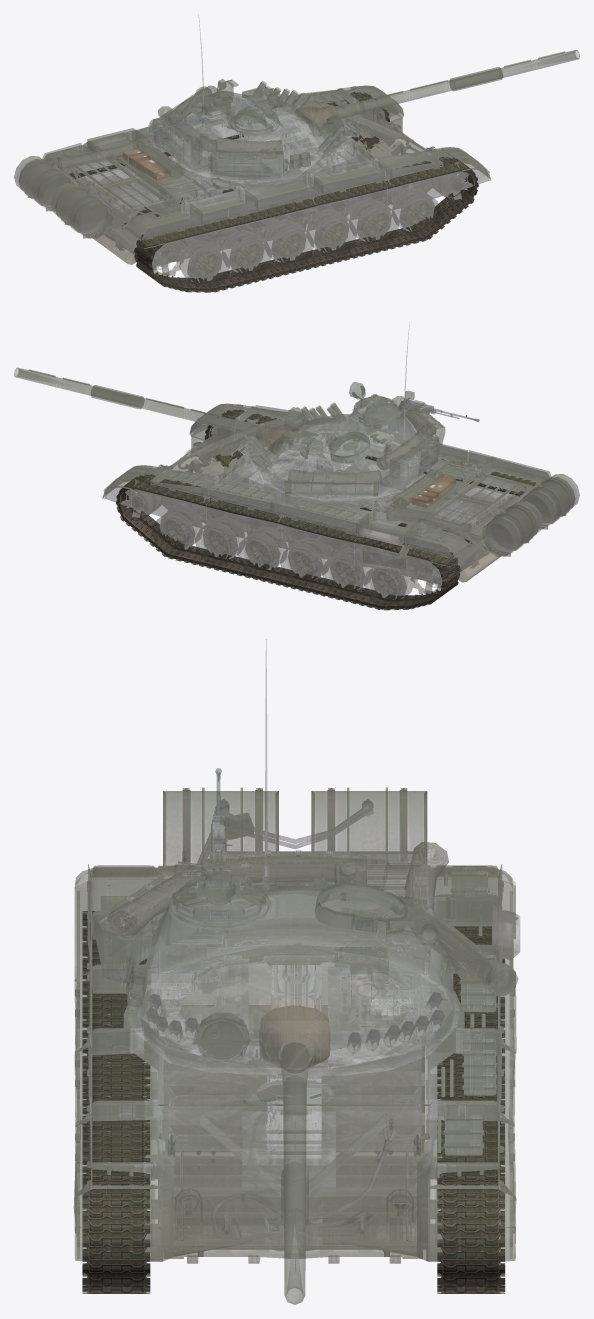
The picture shows the model from 3 angles, top to bottom: view 1: azimuth 30°, elevation 25°; view 2: azimuth 150°, elevation 25°; view 3: azimuth 270°, elevation 25°; orthographic projection. The views are drawn at different scales.
Parts seen in each view (by area): view 1: guard, hull, turret, track03, hullb, gear4, weapon, skirt3, skirt4, skirt2, skirt5, wheel28 (+36 smaller); view 2: guard, hull, turret, track2, hullb, gear4, weapon, skirt14, skirt12, skirt13, skirt11, wheel14 (+36 smaller); view 3: guard, hull, turret, track03, gear4, track2, weapon, gear10, hullb, internal.001, mount2, mount (+11 smaller).
Boxes of the visible parts, bbox=[...] form: guard: bbox=[44, 85, 490, 250]; hull: bbox=[61, 101, 435, 263]; turret: bbox=[148, 79, 345, 183]; track03: bbox=[134, 157, 478, 292]; hullb: bbox=[60, 146, 222, 254]; gear4: bbox=[14, 156, 112, 238]; weapon: bbox=[328, 50, 579, 118]; skirt3: bbox=[310, 189, 387, 229]; skirt4: bbox=[237, 208, 311, 247]; skirt2: bbox=[385, 171, 461, 211]; skirt5: bbox=[144, 225, 239, 257]; wheel28: bbox=[180, 244, 226, 285]; guard: bbox=[102, 403, 549, 568]; hull: bbox=[157, 418, 533, 580]; turret: bbox=[259, 406, 445, 497]; track2: bbox=[116, 474, 460, 610]; hullb: bbox=[373, 460, 533, 571]; gear4: bbox=[481, 474, 579, 556]; weapon: bbox=[14, 367, 265, 439]; skirt14: bbox=[354, 537, 449, 574]; skirt12: bbox=[206, 507, 284, 547]; skirt13: bbox=[282, 526, 356, 565]; skirt11: bbox=[132, 489, 208, 529]; wheel14: bbox=[367, 561, 413, 602]; guard: bbox=[74, 865, 516, 1261]; hull: bbox=[124, 866, 464, 1263]; turret: bbox=[94, 850, 518, 1073]; track03: bbox=[82, 911, 150, 1293]; gear4: bbox=[163, 787, 427, 865]; track2: bbox=[437, 926, 505, 1293]; weapon: bbox=[278, 1042, 312, 1304]; gear10: bbox=[200, 854, 389, 890]; hullb: bbox=[159, 851, 429, 1058]; internal.001: bbox=[144, 897, 427, 1067]; mount2: bbox=[169, 872, 270, 925]; mount: bbox=[259, 1005, 330, 1072].
Size of the model in its own units: 10.02 by 4.28 by 3.64.
14 materials, 14 textured.
